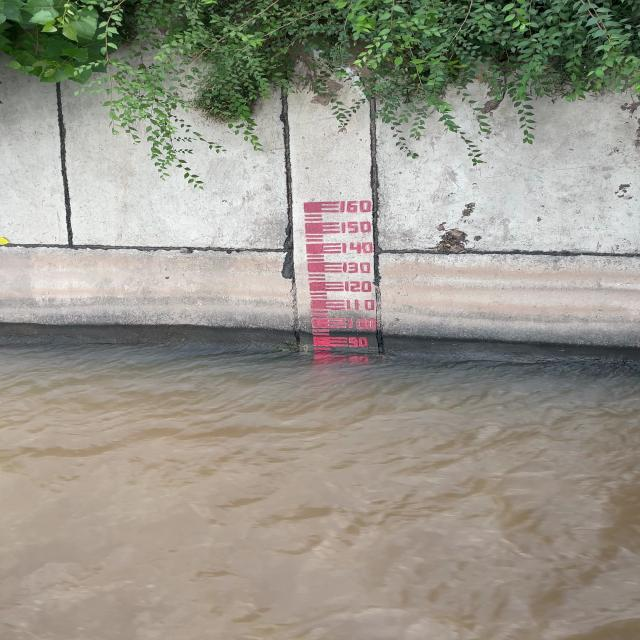ruler: (296, 197, 383, 353)
value: (337, 219, 376, 235), (337, 198, 375, 214), (338, 241, 378, 255), (343, 298, 379, 312), (344, 317, 380, 331), (342, 279, 374, 294), (340, 260, 374, 274), (346, 335, 371, 349)
